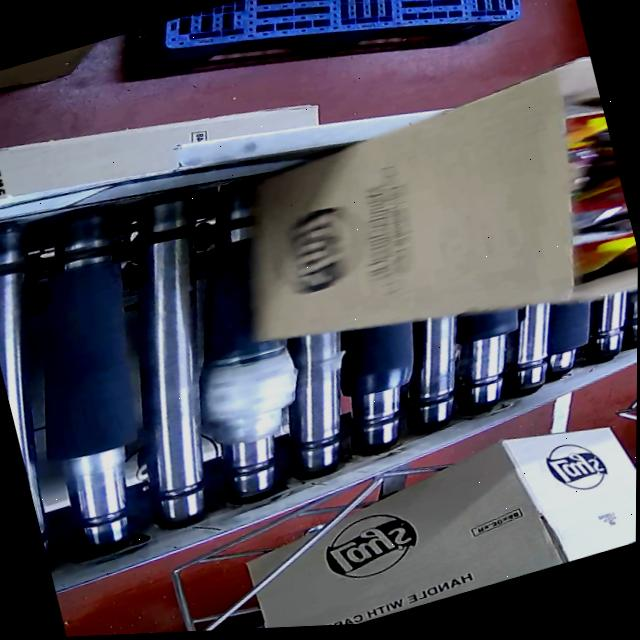MASALA: (549, 98, 639, 279)
